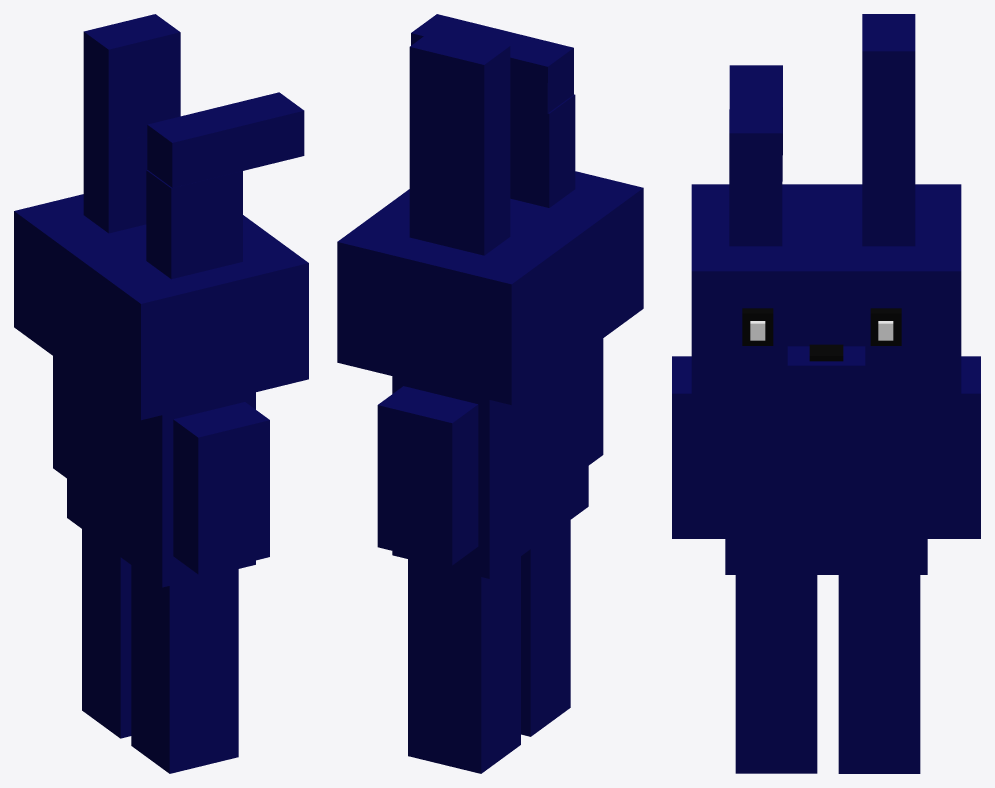
Rendered from bernie.glb.
The picture shows the model from 3 angles, left to right: view 1: azimuth 30°, elevation 25°; view 2: azimuth 150°, elevation 25°; view 3: azimuth 270°, elevation 25°; orthographic projection. The views are drawn at different scales.
Visible parts, largest first — view 1: Cube.004, Cube.008, Cube.016, Cube.002, Cube.009, Cube.003; view 2: Cube.004, Cube.009, Cube.016, Cube.003, Cube.008, Cube.002; view 3: Cube.004, Cube.016, Cube.008, Cube.009, Cube.002, Cube.003.
Boxes of the visible parts, x1,y1,x2,y2 form: Cube.004: [14, 14, 308, 420]; Cube.008: [131, 565, 238, 773]; Cube.016: [67, 366, 255, 587]; Cube.002: [173, 402, 269, 574]; Cube.009: [82, 529, 131, 738]; Cube.003: [53, 356, 66, 478]; Cube.004: [337, 14, 643, 405]; Cube.009: [408, 556, 520, 773]; Cube.016: [392, 349, 588, 578]; Cube.003: [377, 386, 478, 565]; Cube.008: [521, 520, 570, 736]; Cube.002: [588, 338, 603, 465]; Cube.004: [691, 14, 961, 401]; Cube.016: [725, 394, 927, 574]; Cube.008: [735, 575, 817, 773]; Cube.009: [838, 575, 920, 773]; Cube.002: [672, 356, 725, 538]; Cube.003: [927, 356, 980, 538].
Bounding box in the file's own units: 6.38 × 20.23 × 7.83.
